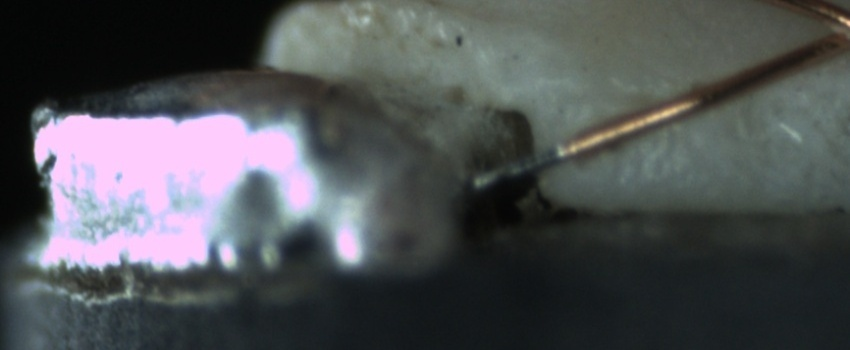CL: (798, 4, 850, 61)
TS: (467, 143, 570, 189)
TTCW: (464, 126, 607, 191)
